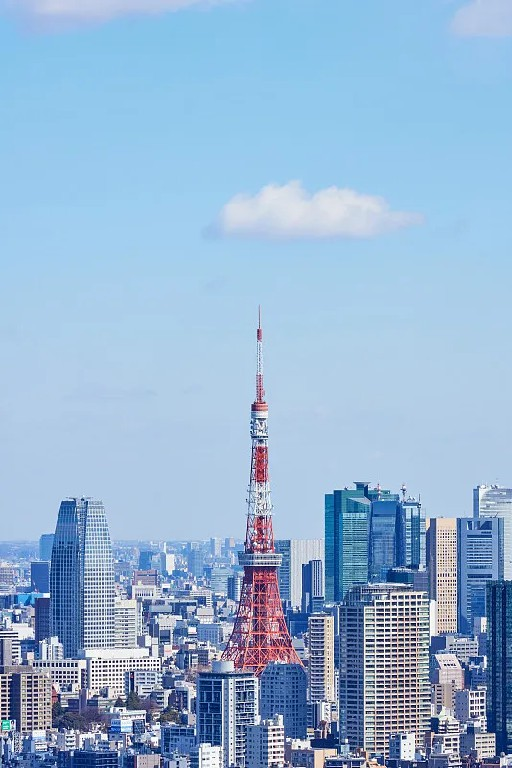Tokyo: (223, 297, 306, 674)
